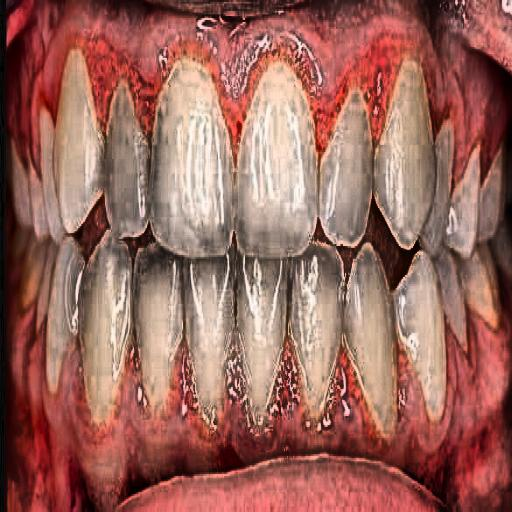Gingivitis: (39, 344, 498, 491), (26, 0, 353, 121), (365, 0, 512, 156)
